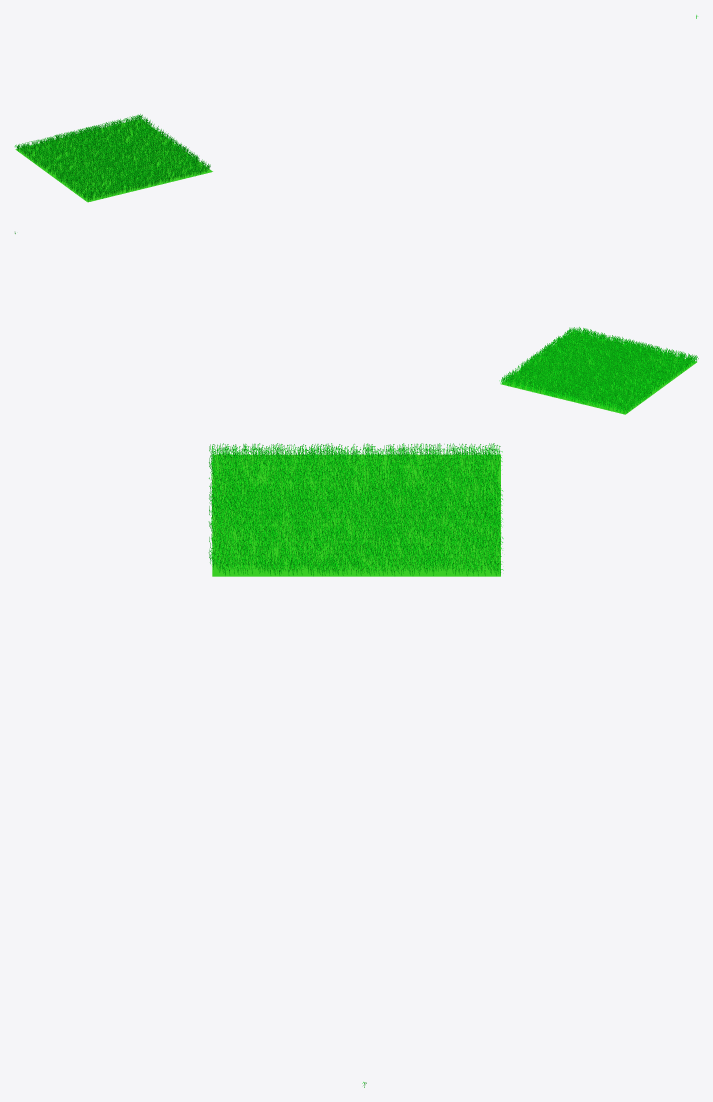
File: grass_new3.fbx
3 views of the same model, one above another, from view 1: azimuth 30°, elevation 25°; view 2: azimuth 150°, elevation 25°; view 3: azimuth 270°, elevation 25° (orthographic). The views are drawn at different scales.
Parts seen in each view (by area): view 1: Plane; view 2: Plane; view 3: Plane.
Boxes of the visible parts, x1=… form: Plane: x1=15, y1=119, x2=212, y2=202; Plane: x1=501, y1=332, x2=696, y2=414; Plane: x1=212, y1=454, x2=500, y2=576.
Size of the model in its own units: 1556 by 19.11 by 309.
